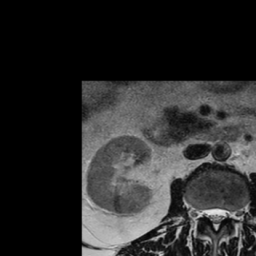CCS_normal: (211, 201, 220, 235)
LFS_normal: (227, 202, 236, 226)
LLS_normal: (220, 201, 227, 228)
RFS_normal: (195, 202, 203, 225)
RLS_normal: (203, 201, 211, 225)
